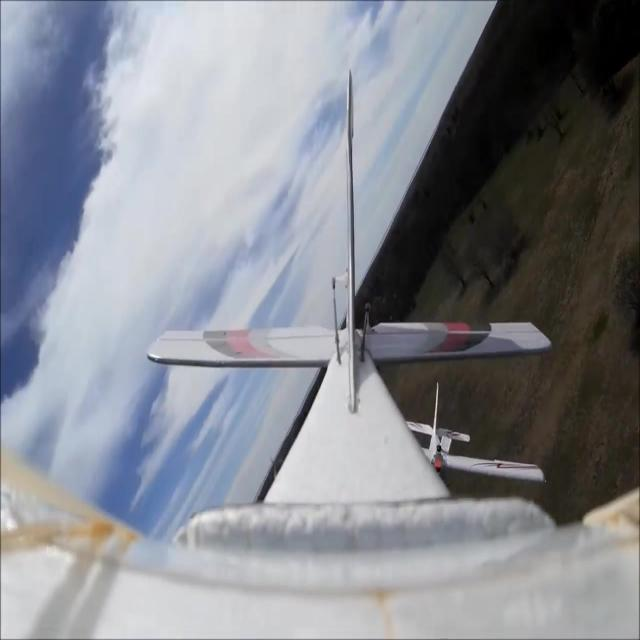iha: (397, 414, 545, 461)
